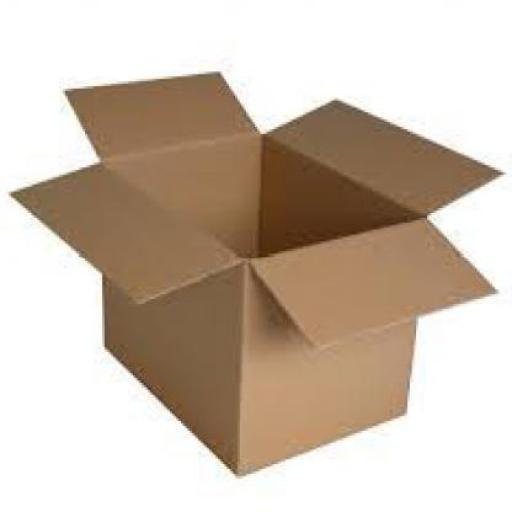cardboard: (11, 69, 511, 471)
